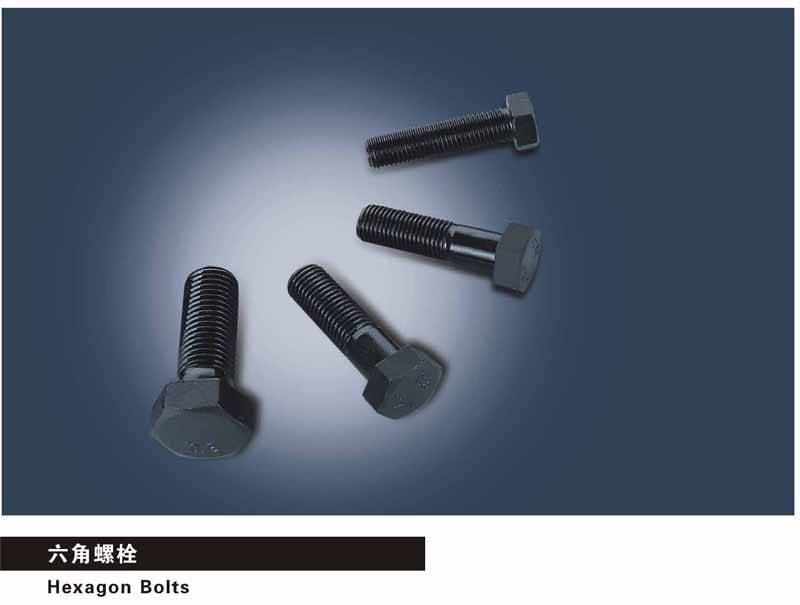screw: (286, 263, 444, 420), (149, 267, 256, 460), (356, 205, 541, 296), (364, 90, 540, 171)
